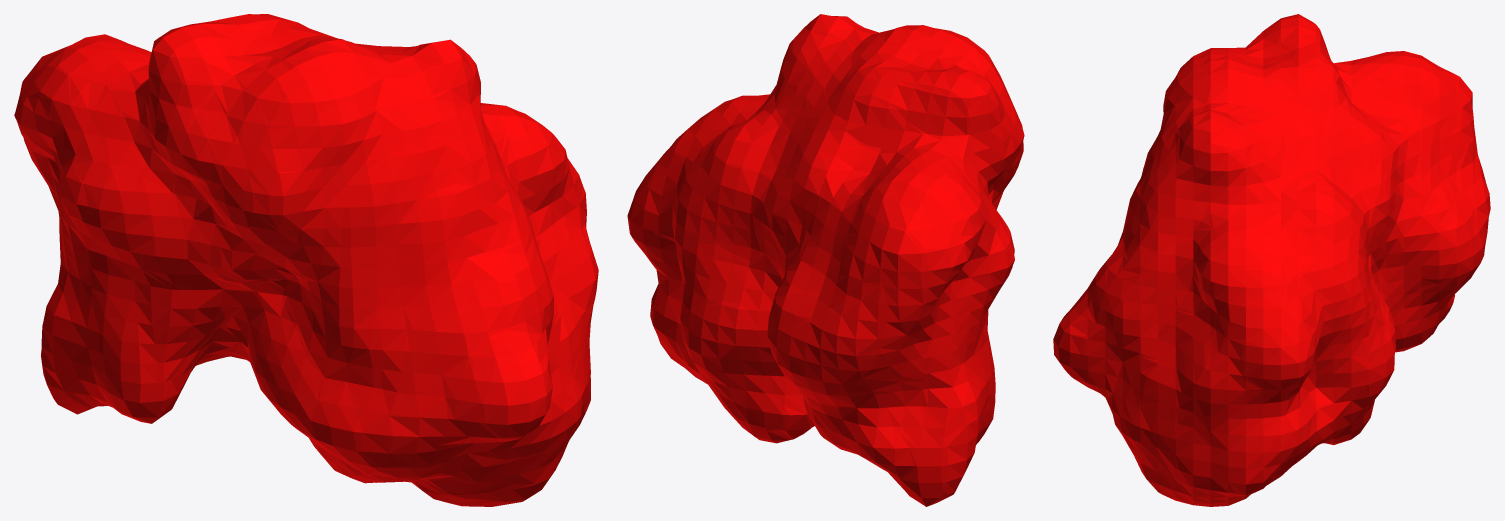
Rendered from paaK_coarse.dae.
3 views of the same model, side by side, from view 1: azimuth 30°, elevation 25°; view 2: azimuth 150°, elevation 25°; view 3: azimuth 270°, elevation 25° (orthographic). The views are drawn at different scales.
Parts seen in each view (by area): view 1: paaK; view 2: paaK; view 3: paaK.
Boxes of the visible parts, x1,y1,x2,y2 form: paaK: [14, 14, 598, 506]; paaK: [627, 14, 1024, 506]; paaK: [1053, 14, 1490, 506].
Bounding box in the file's own units: 63.34 × 63.56 × 64.27.
